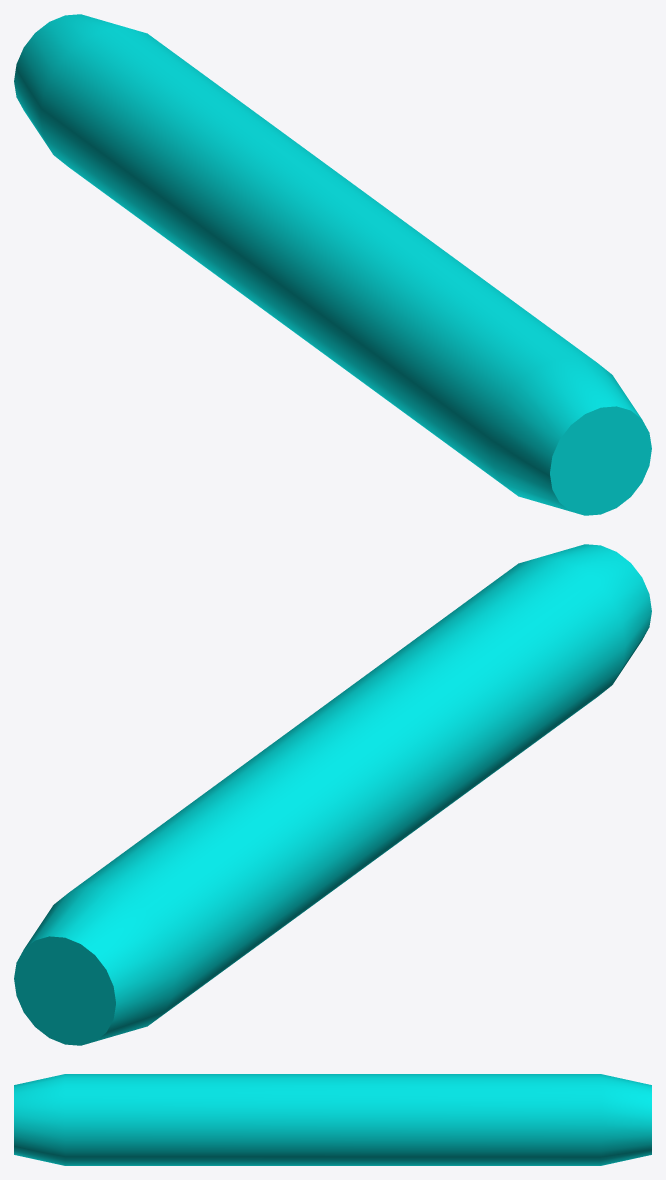
Rendered from laser.fbx.
3 views of the same model, one above another, from view 1: azimuth 30°, elevation 25°; view 2: azimuth 150°, elevation 25°; view 3: azimuth 270°, elevation 25° (orthographic). The views are drawn at different scales.
Visible parts, largest first — view 1: pCylinder1; view 2: pCylinder1; view 3: pCylinder1.
Boxes of the visible parts, box(x1,y1,x2,y2) form: pCylinder1: box(14, 14, 651, 515); pCylinder1: box(14, 544, 651, 1045); pCylinder1: box(14, 1074, 651, 1165).
Bounding box in the file's own units: 2 × 2 × 13.77.
